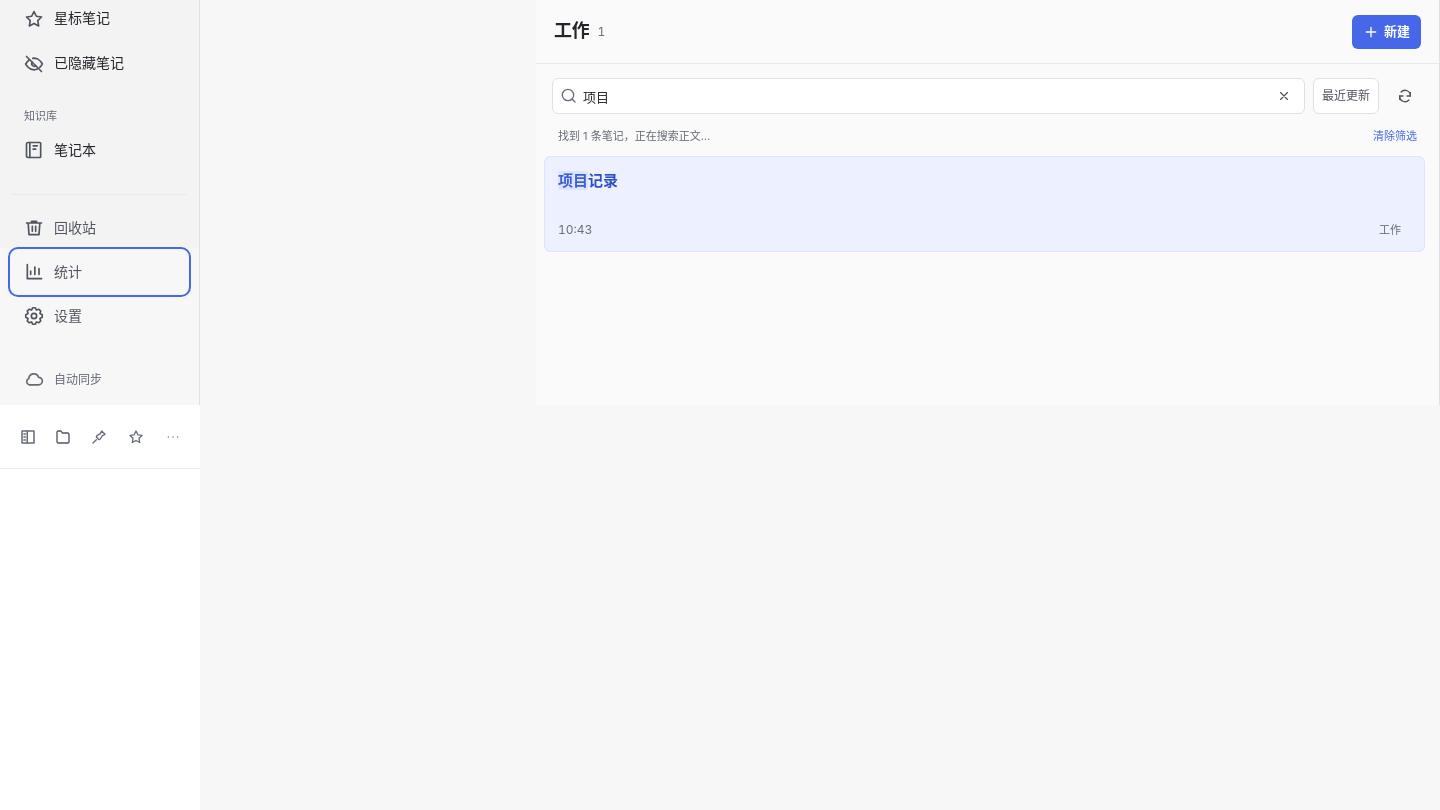
it: App 统计页面 › 打开统计保留分组、搜索、笔记组件和编辑器，关闭后恢复焦点
The image size is (1440, 810).
(page scrolled)
Click the button "统计" at [100, 272], box [12,251,187,293]
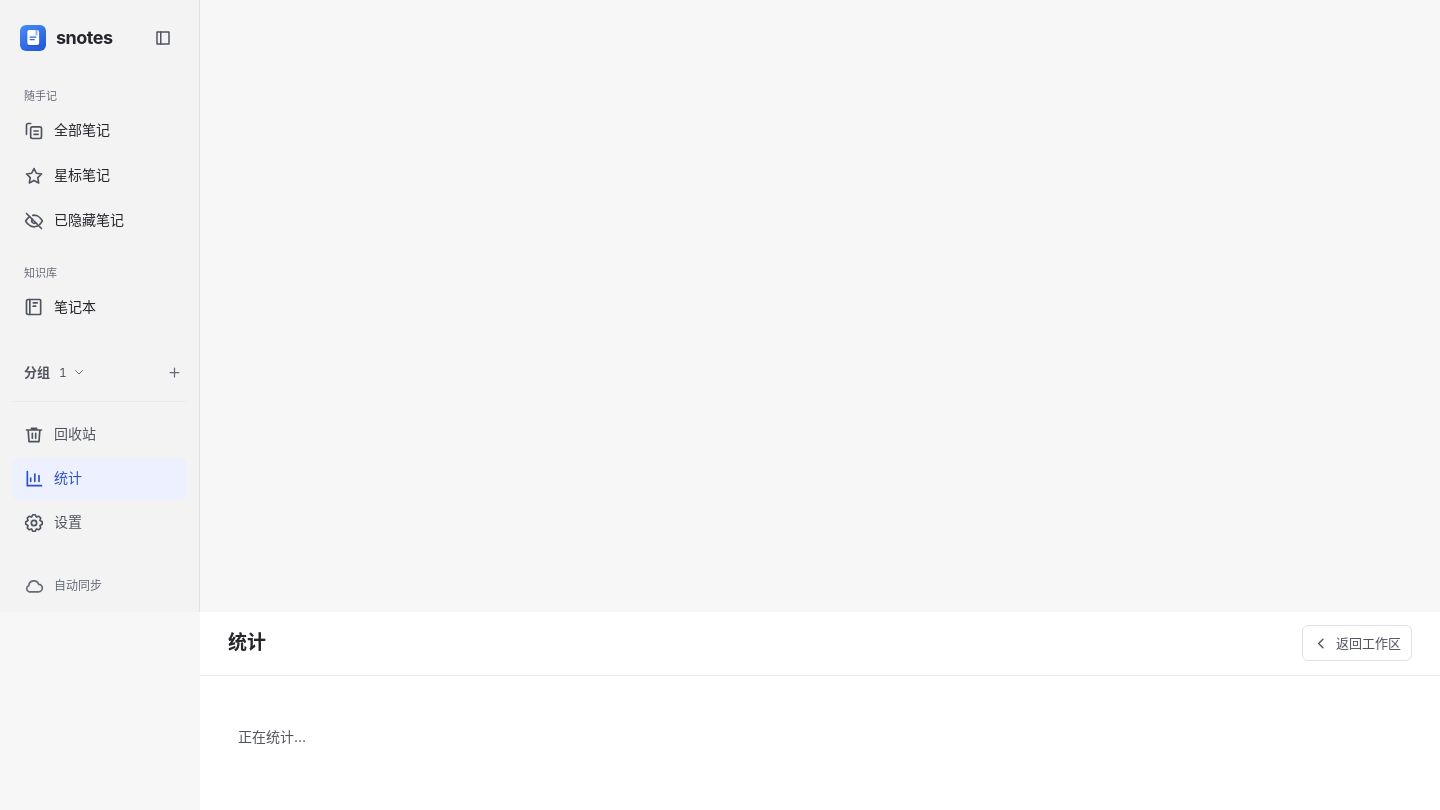
Click the button with aria-label "返回工作区" at [1357, 643], box [1302,625,1412,661]
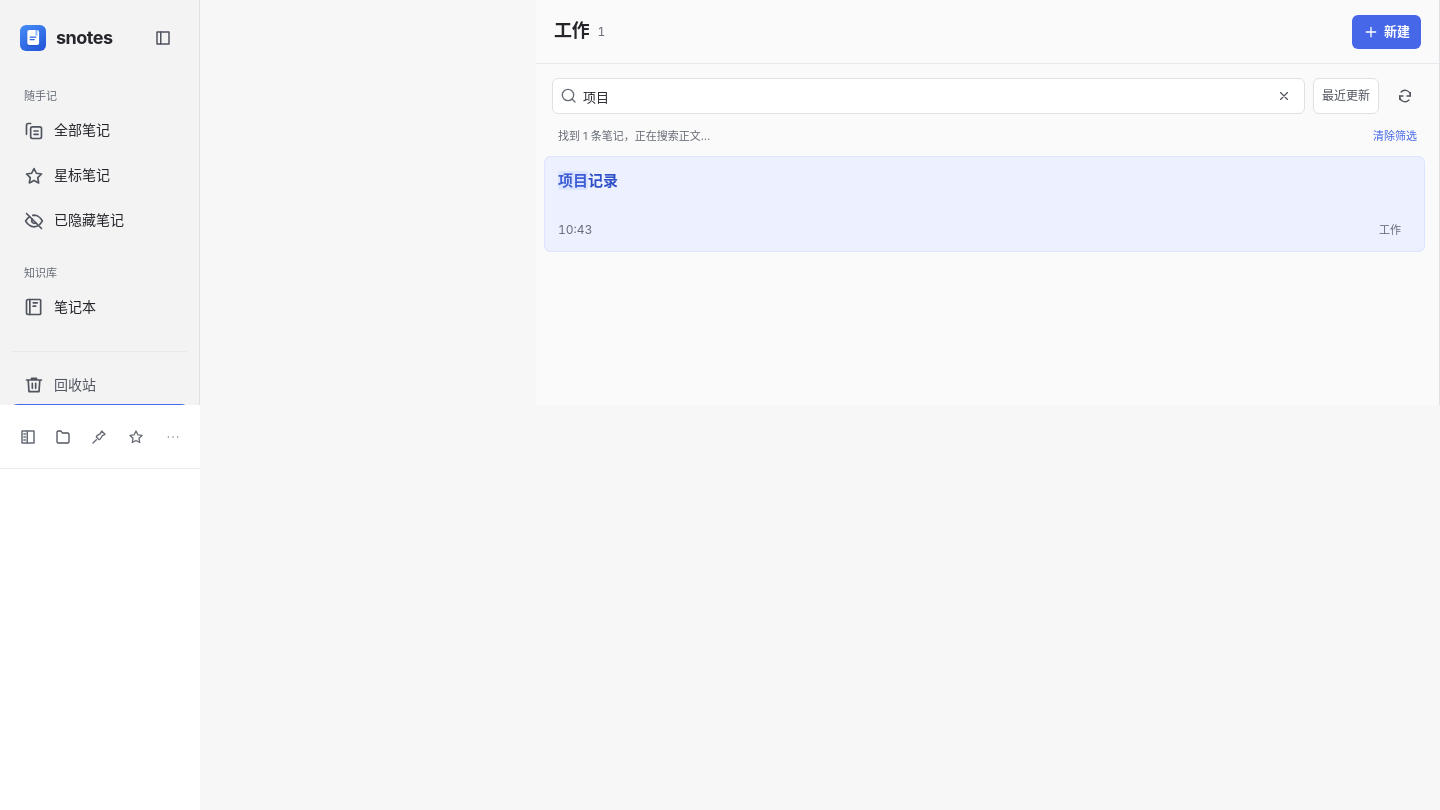
Expected: the button named "统计" is gone
